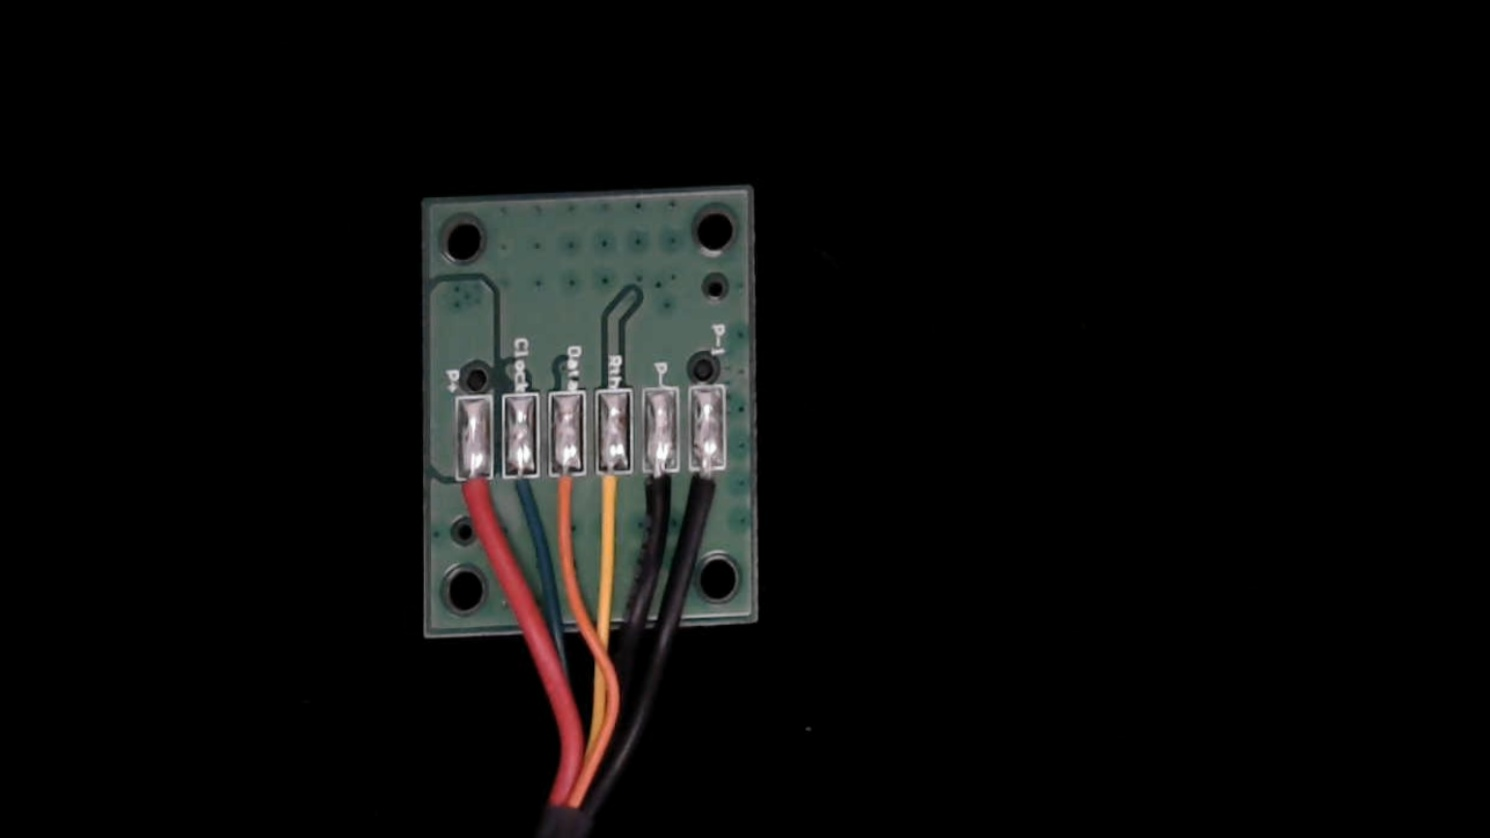Black: (639, 450, 680, 547)
Black1: (688, 447, 728, 537)
Green: (503, 450, 544, 544)
Orange: (551, 450, 589, 546)
Red: (453, 458, 495, 553)
Yellow: (595, 449, 637, 548)
